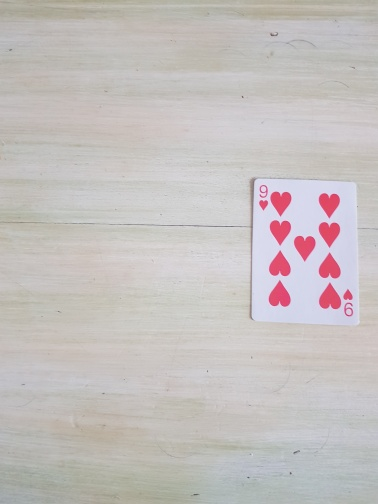nine: (249, 179, 362, 327)
